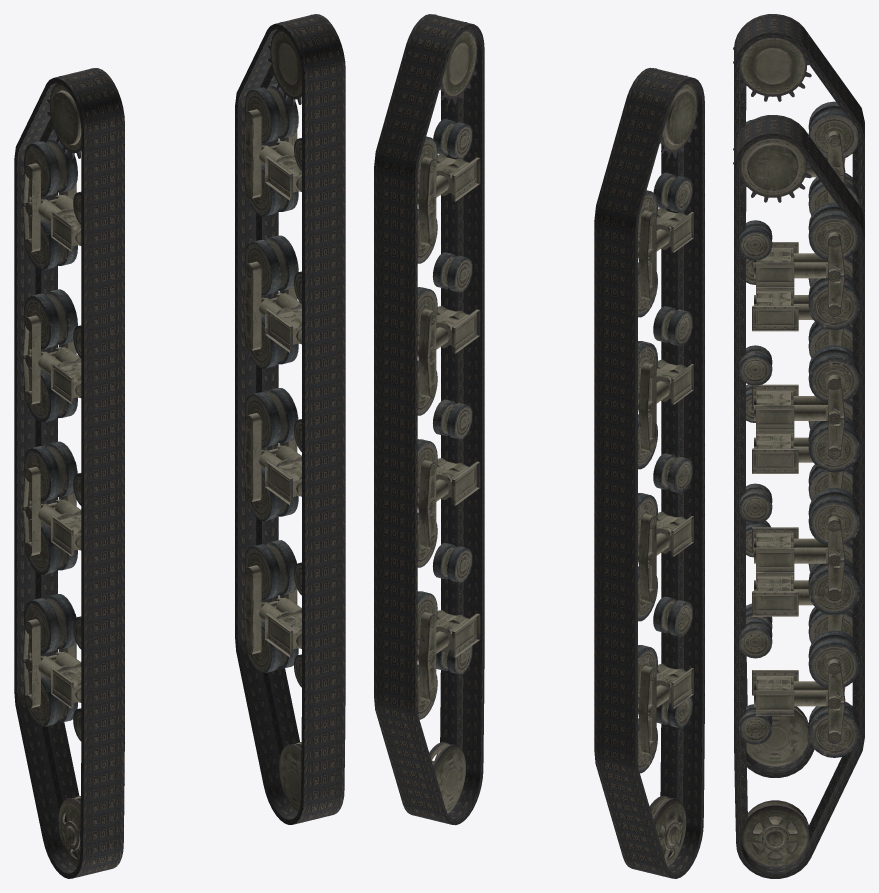
Rendered from Chassis.glb.
3 renders of one model, left to right at view 1: azimuth 30°, elevation 25°; view 2: azimuth 150°, elevation 25°; view 3: azimuth 270°, elevation 25°, orthographic. The views are drawn at different scales.
Visible parts, largest first — view 1: set_0_group_0, set_1_group_0, set_2_group_0, set_3_group_0; view 2: set_0_group_0, set_1_group_0, set_3_group_0, set_2_group_0; view 3: set_3_group_0, set_2_group_0, set_1_group_0, set_0_group_0.
Boxes of the visible parts, left/top/right/bottom form: set_0_group_0: left=14, top=68, right=124, bottom=878; set_1_group_0: left=235, top=14, right=345, bottom=824; set_2_group_0: left=22, top=68, right=120, bottom=867; set_3_group_0: left=243, top=14, right=341, bottom=813; set_0_group_0: left=594, top=67, right=704, bottom=878; set_1_group_0: left=374, top=14, right=484, bottom=825; set_3_group_0: left=408, top=14, right=480, bottom=813; set_2_group_0: left=628, top=68, right=697, bottom=867; set_3_group_0: left=733, top=116, right=859, bottom=867; set_2_group_0: left=733, top=15, right=859, bottom=766; set_1_group_0: left=734, top=115, right=864, bottom=878; set_0_group_0: left=734, top=14, right=864, bottom=777.
Bounding box in the file's own units: 3.25 × 9.3 × 1.49.
Materials: 4 (4 with a texture image).
